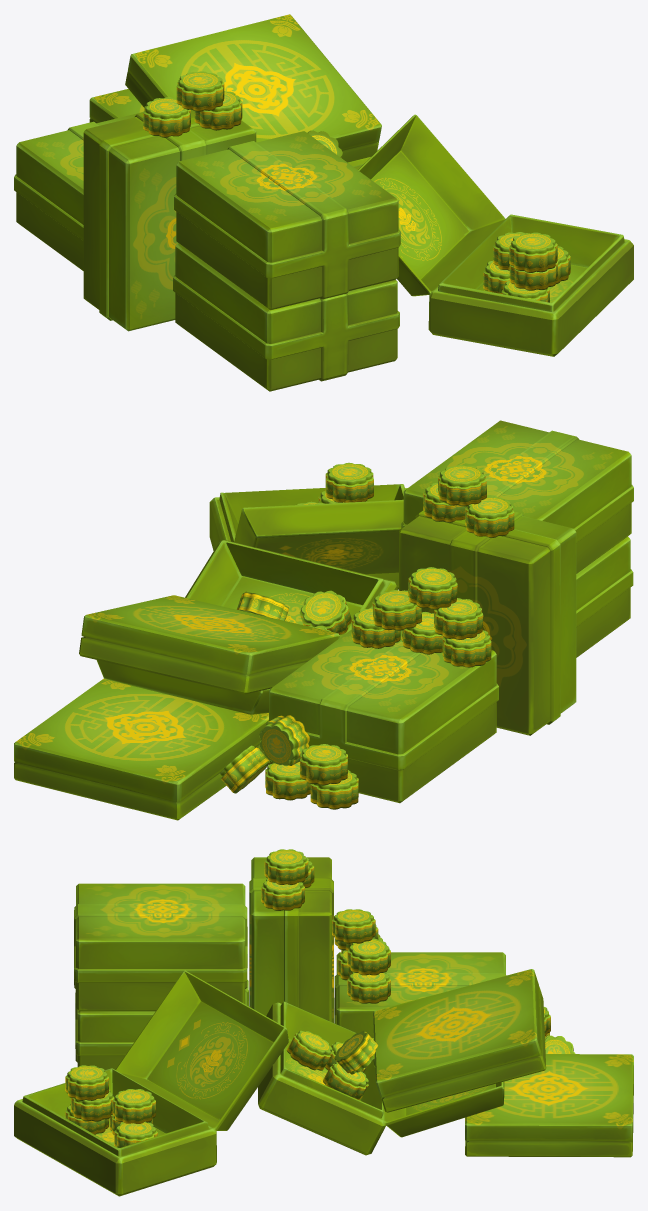
The model's file is banh_H4.fbx.
3 views of the same model, one above another, from view 1: azimuth 30°, elevation 25°; view 2: azimuth 150°, elevation 25°; view 3: azimuth 270°, elevation 25° (orthographic). The views are drawn at different scales.
Parts seen in each view (by area): view 1: hop3, hophcn1, hop, hop1, hopvuong8, hop2, banhhoa38, banhhoa47, banhhoa48, hopvuong7, banhhoa49, banhhoa39 (+3 smaller); view 2: hop2, hopvuong7, hop, hopvuong8, hop3, hophcn1, hophcn, hop1, banhhoa52, banhhoa51, banhhoa47, banhhoa55 (+13 smaller); view 3: hophcn1, hop3, hopvuong8, hopvuong7, hophcn, hop, hop2, hop1, banhhoa47, banhhoa38, banhhoa50, banhhoa41 (+8 smaller).
Part boxes in pixels (x1,y1,x2,y2): hop3: [174, 131, 400, 310]; hophcn1: [358, 114, 633, 356]; hop: [83, 109, 256, 331]; hop1: [173, 243, 399, 391]; hopvuong8: [125, 14, 381, 162]; hop2: [14, 112, 143, 270]; banhhoa38: [509, 232, 557, 272]; banhhoa47: [176, 71, 224, 111]; banhhoa48: [143, 97, 190, 137]; hopvuong7: [89, 89, 144, 123]; banhhoa49: [194, 91, 242, 130]; banhhoa39: [509, 261, 557, 290]; hop2: [266, 630, 498, 803]; hopvuong7: [14, 678, 268, 820]; hop: [399, 510, 576, 735]; hopvuong8: [79, 595, 339, 694]; hop3: [401, 420, 633, 573]; hophcn1: [209, 484, 407, 589]; hophcn: [96, 540, 397, 714]; hop1: [576, 536, 633, 657]; banhhoa52: [259, 715, 309, 765]; banhhoa51: [408, 567, 457, 609]; banhhoa47: [438, 465, 486, 506]; banhhoa55: [300, 744, 347, 785]; hophcn1: [14, 970, 288, 1196]; hop3: [74, 883, 247, 1011]; hopvuong8: [373, 969, 546, 1112]; hopvuong7: [465, 1054, 633, 1157]; hophcn: [258, 1001, 504, 1155]; hop: [249, 857, 333, 1022]; hop2: [334, 952, 506, 1039]; hop1: [75, 980, 248, 1070]; banhhoa47: [264, 849, 308, 884]; banhhoa38: [65, 1065, 108, 1100]; banhhoa50: [347, 938, 390, 975]; banhhoa41: [112, 1089, 155, 1123].
Size of the model in its own units: 1383 by 670 by 1916.
